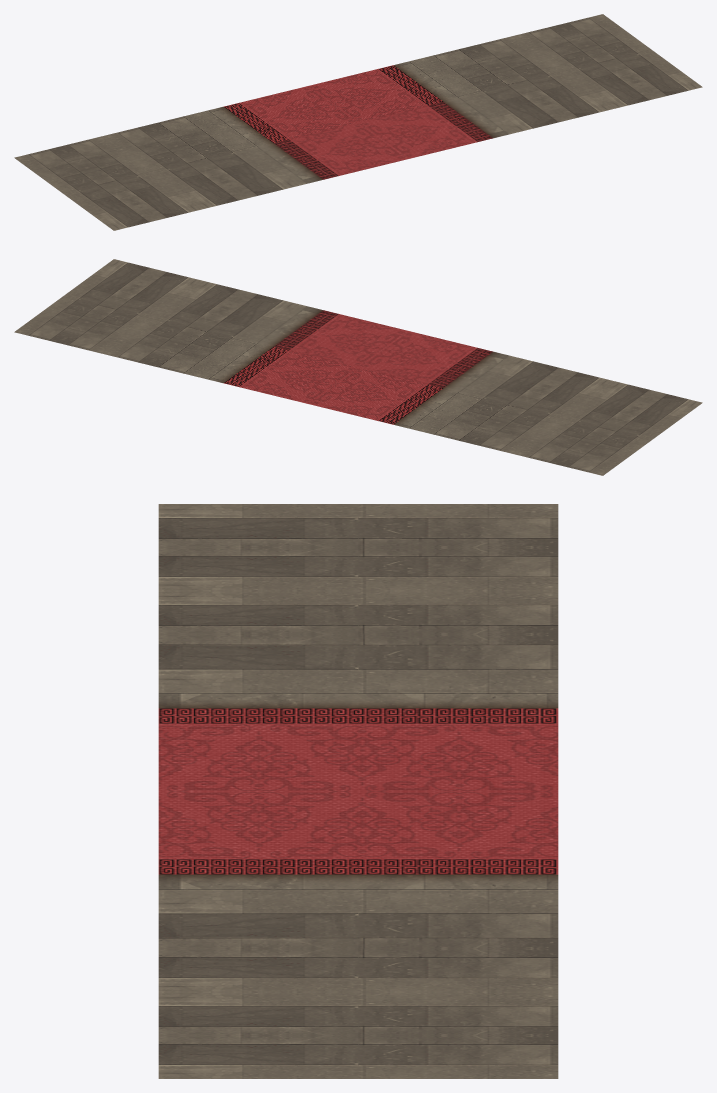
File: FB_gongdain_dibiao.FBX
3 views of the same model, one above another, from view 1: azimuth 30°, elevation 25°; view 2: azimuth 150°, elevation 25°; view 3: azimuth 270°, elevation 25° (orthographic). The views are drawn at different scales.
Visible parts, largest first — view 1: Plane28; view 2: Plane28; view 3: Plane28.
Boxes of the visible parts, bbox=[...] form: Plane28: bbox=[14, 14, 702, 230]; Plane28: bbox=[14, 259, 702, 475]; Plane28: bbox=[158, 504, 558, 1078].
Size of the model in its own units: 34.01 by 5.5e-05 by 10.
